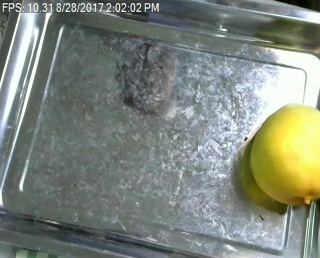Mango: (250, 103, 320, 204)
